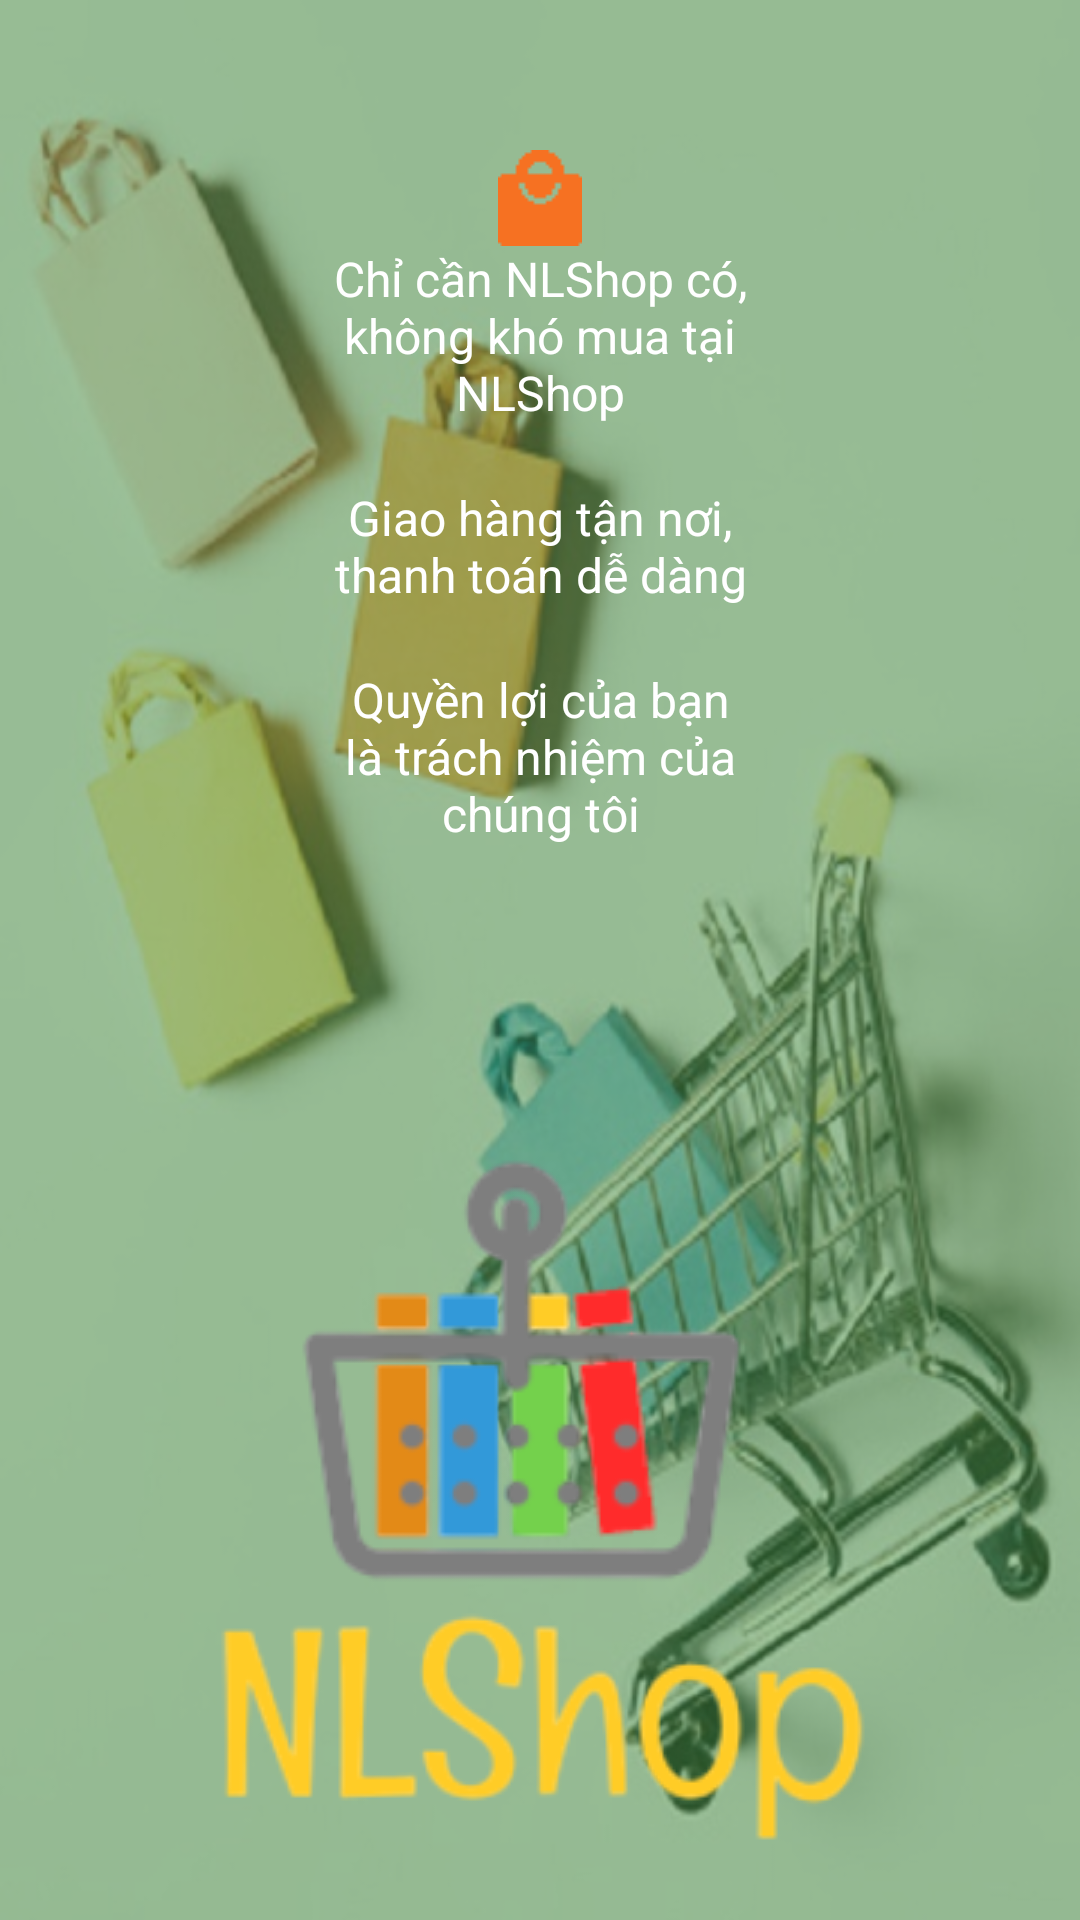

Point at icon controls on the screen. Image size 1080w x 1920h, points as (x,y).
iconbag: (540,198)
